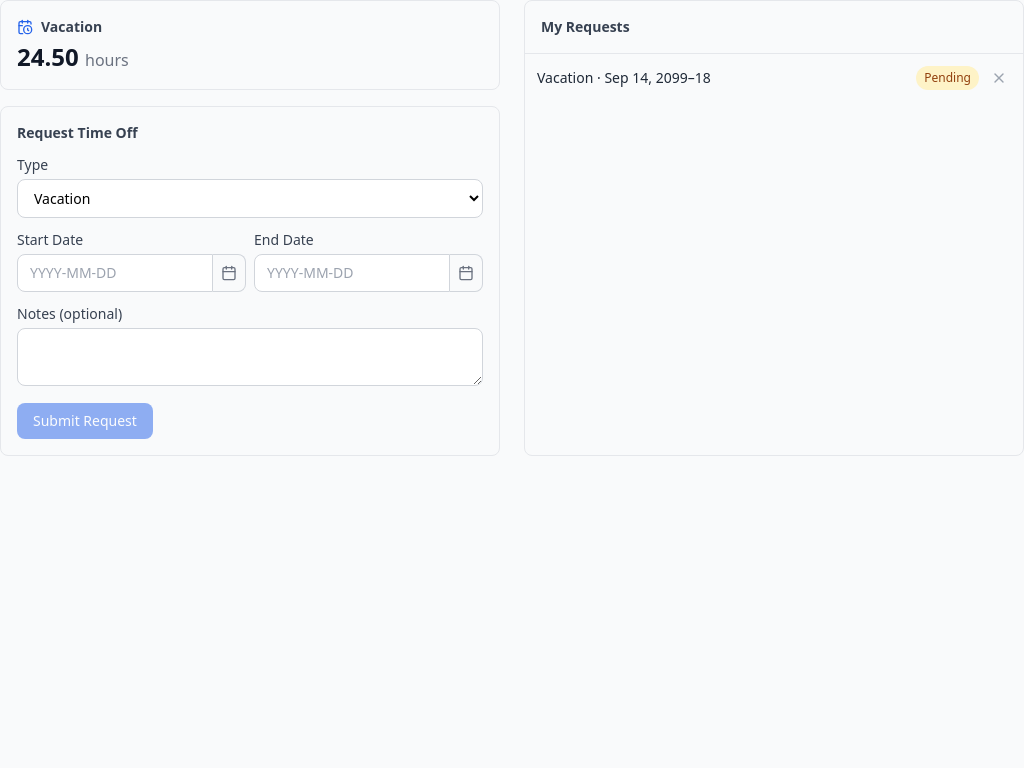
Scenario: employee Time Off page › offers exactly Vacation and Unpaid Time Off, using a calendar Date Picker
The width and height of the screenshot is (1024, 768).
Expected: the field labelled "Start Date" is shown, [17,254,213,292]
Click the button named "Start Date calendar" at {"x": 230, "y": 273}, box [213,254,246,292]
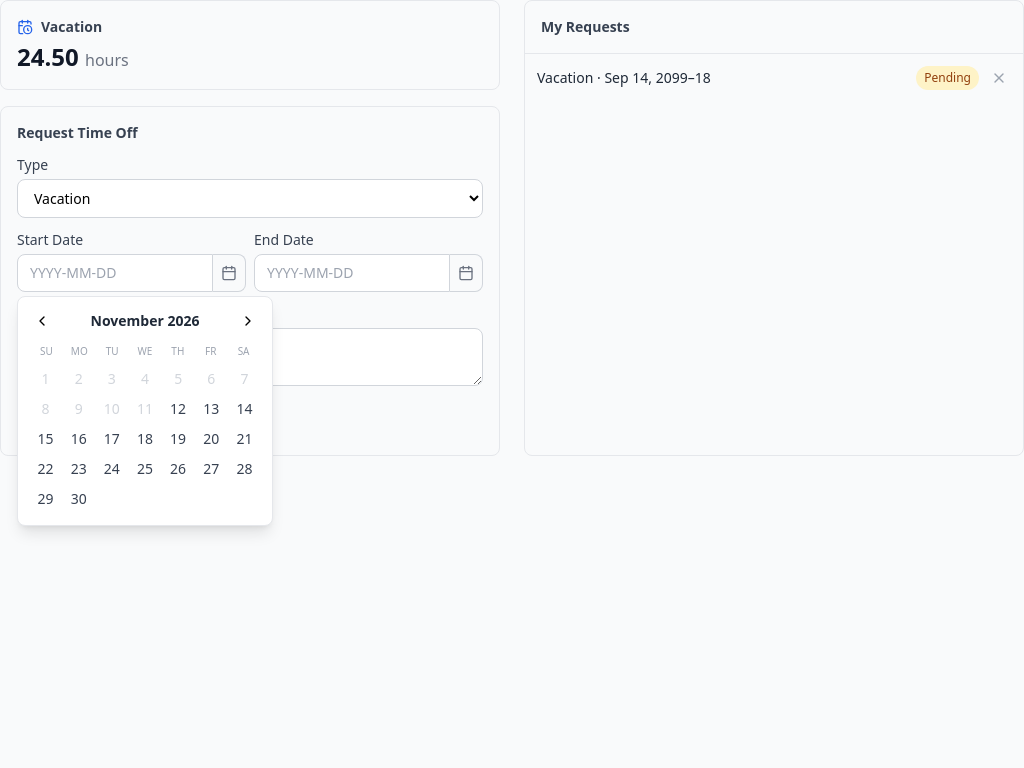
Result: the dialog is shown at [17,296,273,526]
